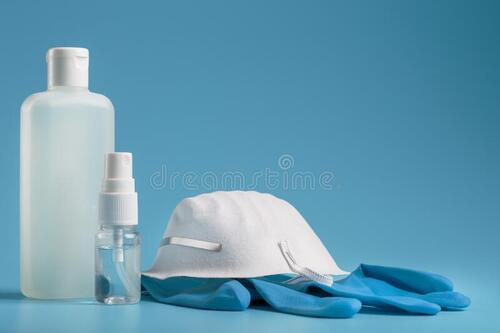sanitizer: (95, 147, 144, 306)
